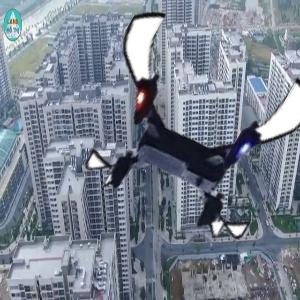drone: (88, 20, 297, 229)
